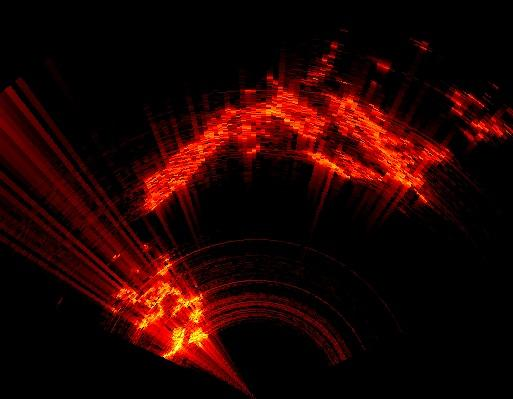shipwreck: (315, 95, 446, 200), (145, 107, 258, 210), (121, 282, 207, 357), (250, 88, 327, 136)
